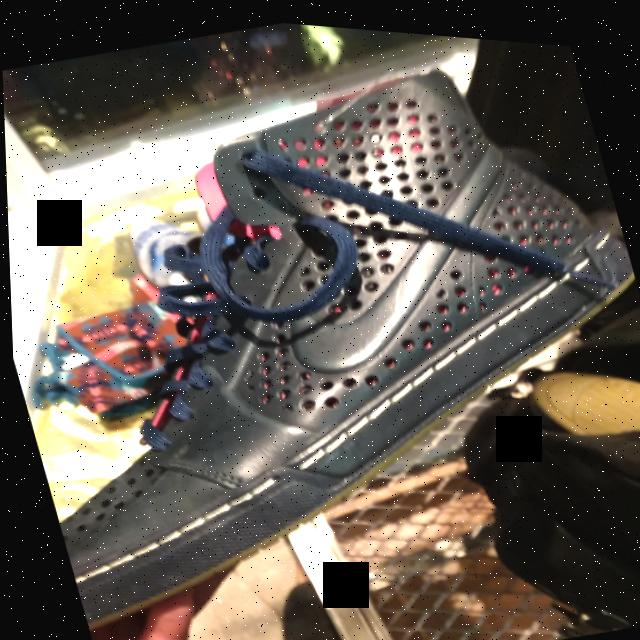shoes: (0, 0, 640, 637)
